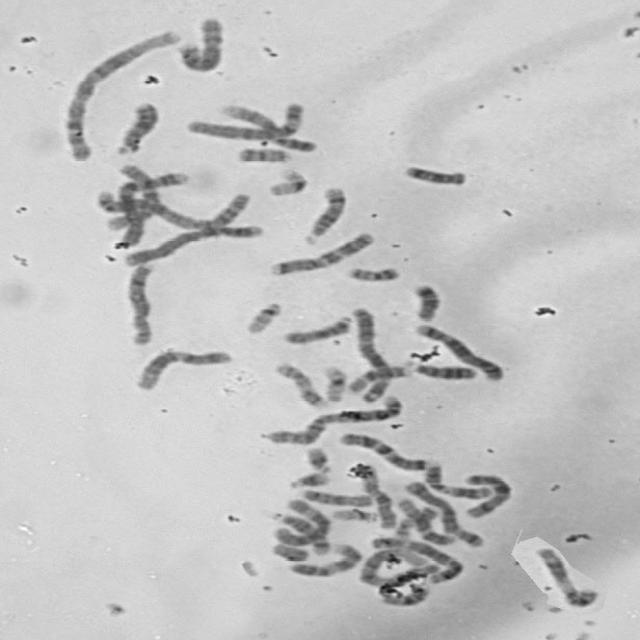A1: (56, 26, 183, 162), (353, 544, 438, 590)
A2: (91, 188, 265, 240), (263, 392, 407, 446)
A3: (366, 533, 466, 586), (345, 302, 394, 403)
B4: (120, 192, 256, 268), (111, 170, 194, 249)
B5: (409, 320, 508, 384), (400, 477, 487, 549)
C10: (99, 162, 164, 231), (349, 460, 399, 530)
C11: (531, 544, 601, 608), (422, 462, 493, 499)
C12: (130, 345, 235, 392), (393, 494, 458, 547)
C6: (180, 99, 308, 142), (270, 496, 334, 548)
C7: (266, 228, 377, 277), (335, 429, 431, 472)
C8: (174, 13, 228, 74), (121, 260, 158, 348)
C9: (218, 102, 318, 154), (284, 539, 366, 578)
D13: (111, 97, 162, 156), (399, 358, 480, 381)
D14: (299, 183, 349, 245), (268, 508, 333, 555)
D15: (280, 312, 356, 345), (298, 486, 375, 508)
E16: (344, 362, 413, 395), (375, 580, 431, 608)
E17: (270, 359, 329, 409), (390, 505, 440, 541)
E18: (399, 161, 471, 187), (406, 280, 443, 322)
F19: (263, 165, 311, 198), (318, 362, 349, 403)
F20: (342, 262, 403, 283), (232, 144, 294, 164)
G21: (300, 443, 335, 474), (284, 468, 332, 489)
G22: (240, 298, 285, 335), (328, 504, 382, 524)
X: (460, 470, 516, 520)
Y: (267, 540, 312, 563)
